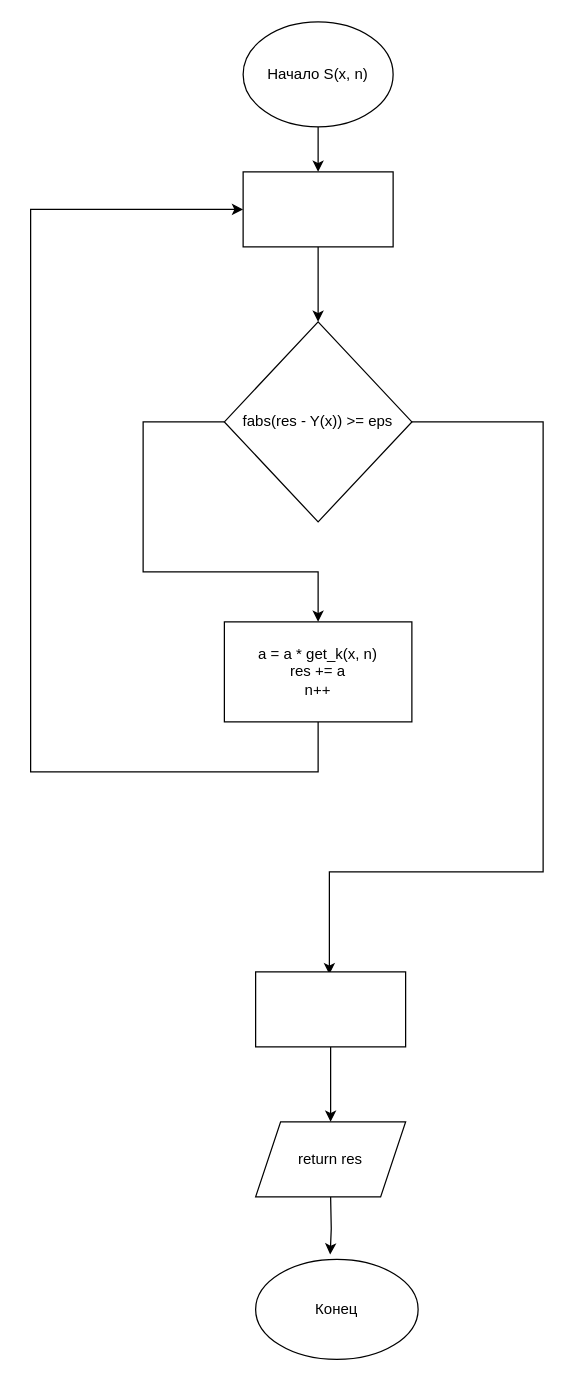
Image size: 575x1381. Some labels were removed from this diagram. Here are the shapes that lost their labels. From the top down, the centre of each, then its label:
the point at 317,209: int n = 1 double a = 1.0 double res = a
the point at 330,1009: number = n
